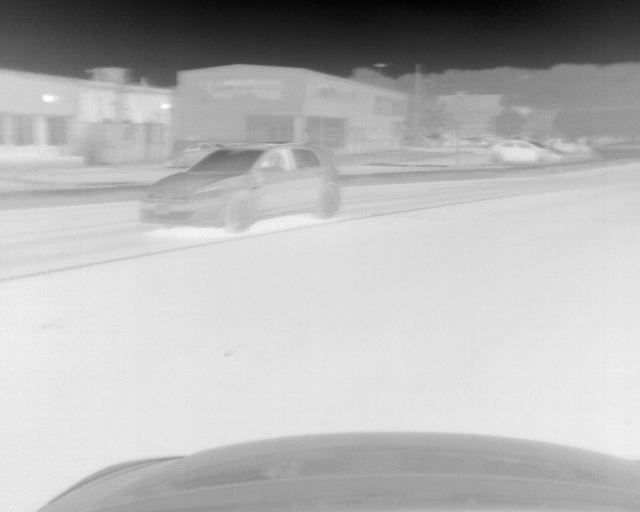car: (140, 140, 340, 235), (489, 137, 559, 165), (545, 137, 594, 159)
